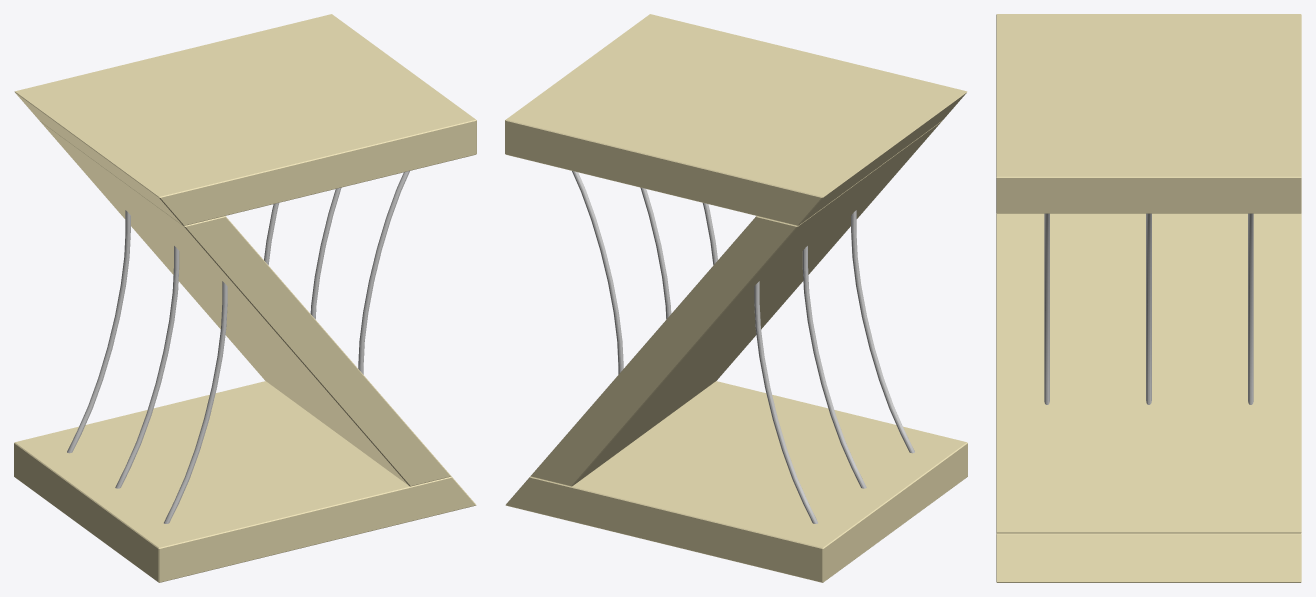
File: ztable-transformed.glb
3 views of the same model, side by side, from view 1: azimuth 30°, elevation 25°; view 2: azimuth 150°, elevation 25°; view 3: azimuth 270°, elevation 25° (orthographic). The views are drawn at different scales.
Parts seen in each view (by area): view 1: dlX - Luxury Z Champagne_champagne_0, dlX - Luxury Z Champagne_silver_0; view 2: dlX - Luxury Z Champagne_champagne_0, dlX - Luxury Z Champagne_silver_0; view 3: dlX - Luxury Z Champagne_champagne_0, dlX - Luxury Z Champagne_silver_0.
Boxes of the visible parts, x1,y1,x2,y2 form: dlX - Luxury Z Champagne_champagne_0: (14,14,476,582); dlX - Luxury Z Champagne_silver_0: (67,171,409,523); dlX - Luxury Z Champagne_champagne_0: (505,14,967,582); dlX - Luxury Z Champagne_silver_0: (572,171,914,523); dlX - Luxury Z Champagne_champagne_0: (996,14,1301,582); dlX - Luxury Z Champagne_silver_0: (1044,213,1253,404).
Size of the model in its own units: 0.38 by 0.44 by 0.3.
